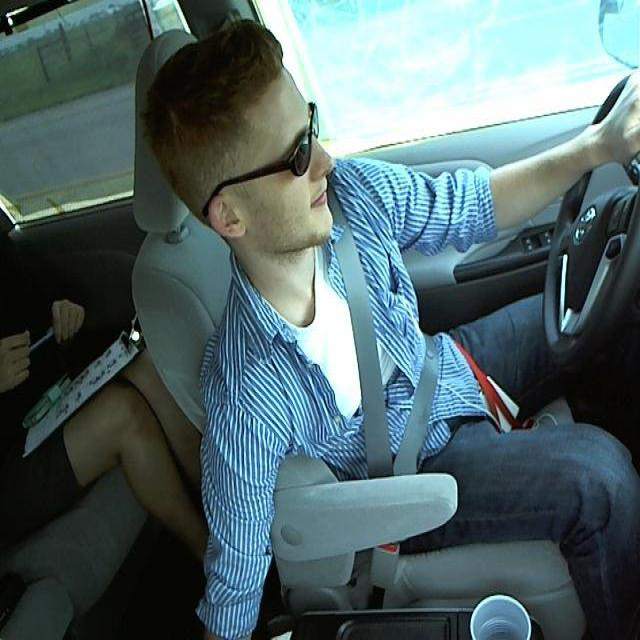seatbelt: (335, 256, 433, 468)
